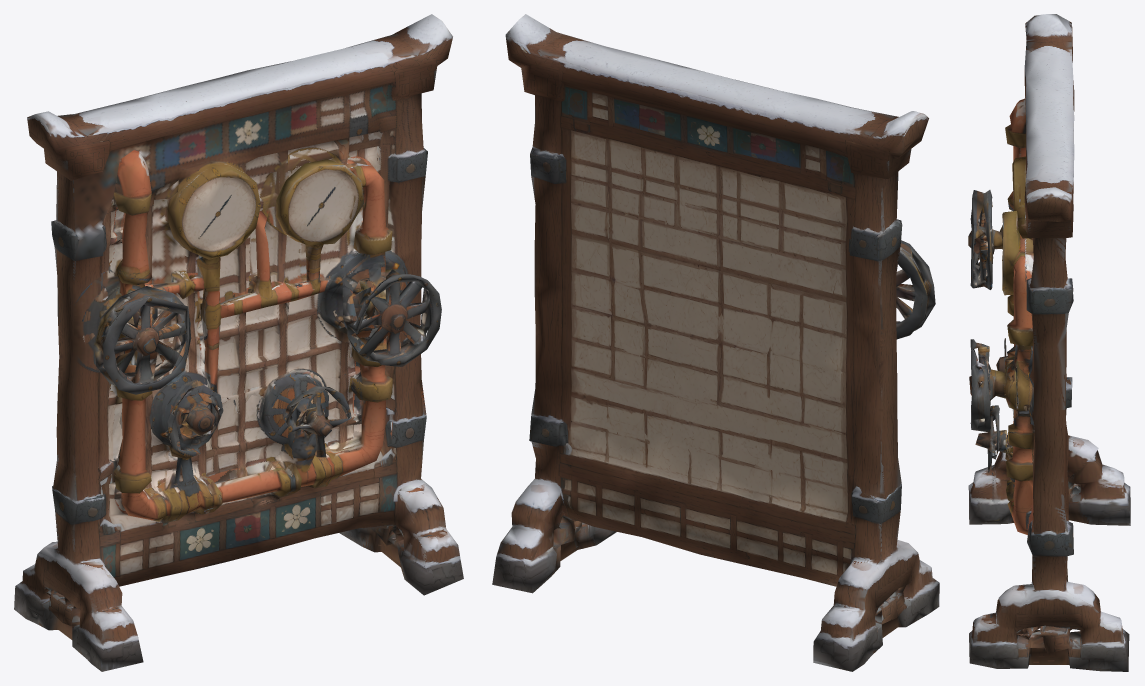
File: PR_SteamPanel.fbx
3 renders of one model, left to right at view 1: azimuth 30°, elevation 25°; view 2: azimuth 150°, elevation 25°; view 3: azimuth 270°, elevation 25°, orthographic. The views are drawn at different scales.
Visible parts, largest first — view 1: texture_mapping; view 2: texture_mapping; view 3: texture_mapping.
Part boxes in pixels (x1,y1,x2,y2): texture_mapping: (14,14,463,671); texture_mapping: (492,14,939,671); texture_mapping: (968,14,1130,671).
Bounding box in the file's own units: 0.7892 × 0.3013 × 1.
1 material, 1 textured.
